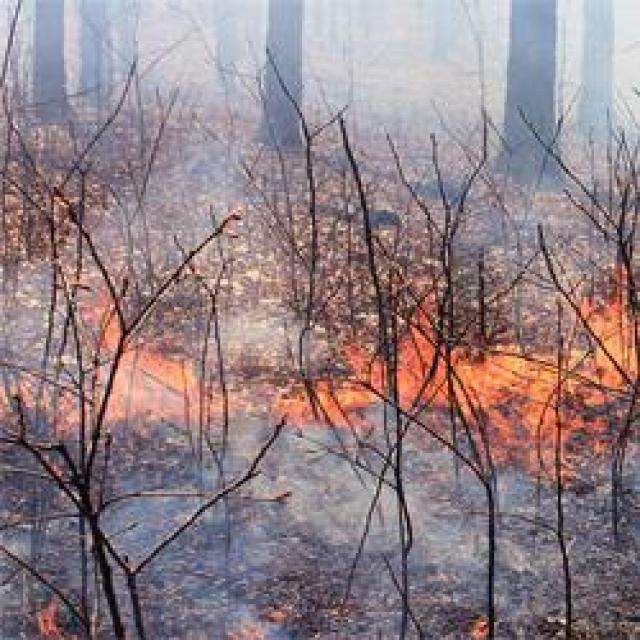fire: (400, 322, 585, 424), (98, 319, 182, 419), (594, 300, 640, 384), (286, 380, 377, 412), (38, 599, 62, 639), (463, 619, 488, 640)
smoke: (73, 80, 249, 253), (350, 66, 504, 260), (255, 465, 472, 564), (127, 482, 231, 598), (501, 496, 586, 594), (2, 272, 69, 363), (556, 166, 608, 240), (36, 12, 83, 55)
